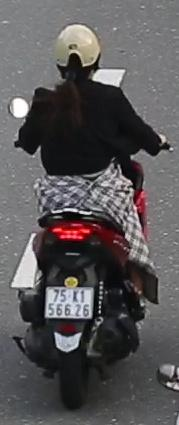LP: (42, 281, 97, 322)
helmet: (50, 19, 106, 87)
